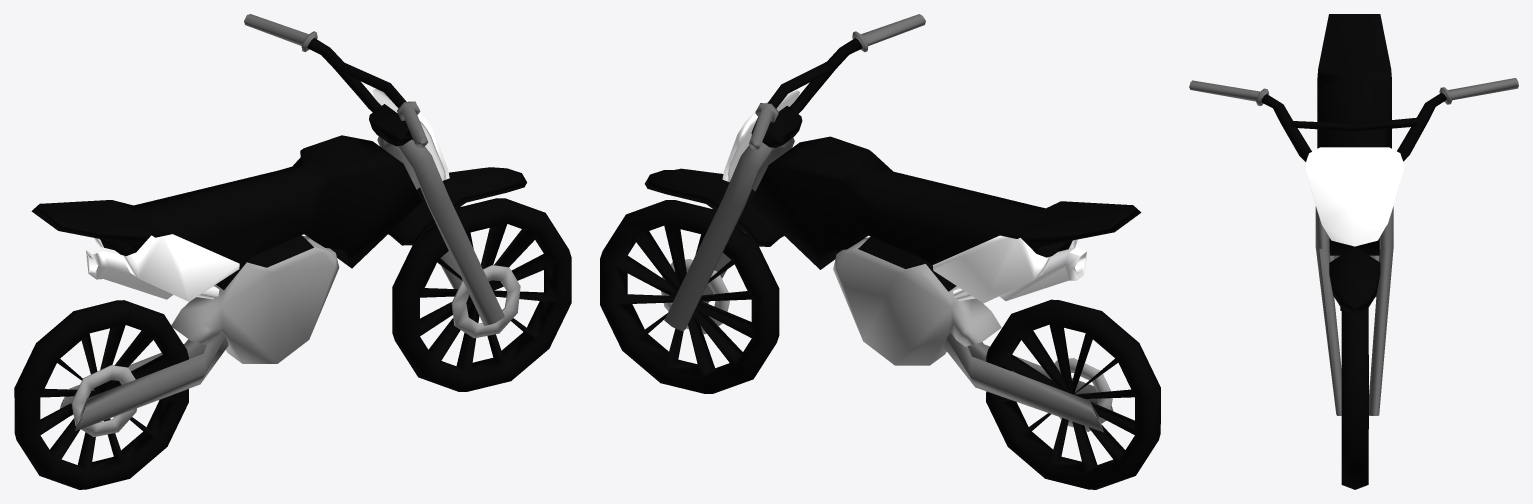
File: DirtBike250ccBlack.glb
3 renders of one model, left to right at view 1: azimuth 30°, elevation 25°; view 2: azimuth 150°, elevation 25°; view 3: azimuth 270°, elevation 25°, orthographic. The views are drawn at different scales.
Parts seen in each view (by area): view 1: DirtBike250ccBlack; view 2: DirtBike250ccBlack; view 3: DirtBike250ccBlack.
Boxes of the visible parts, x1,y1,x2,y2 form: DirtBike250ccBlack: [14, 14, 571, 489]; DirtBike250ccBlack: [600, 14, 1160, 489]; DirtBike250ccBlack: [1189, 14, 1518, 489].
Size of the model in its own units: 2.46 by 1.49 by 1.33.
1 material, 1 textured.
